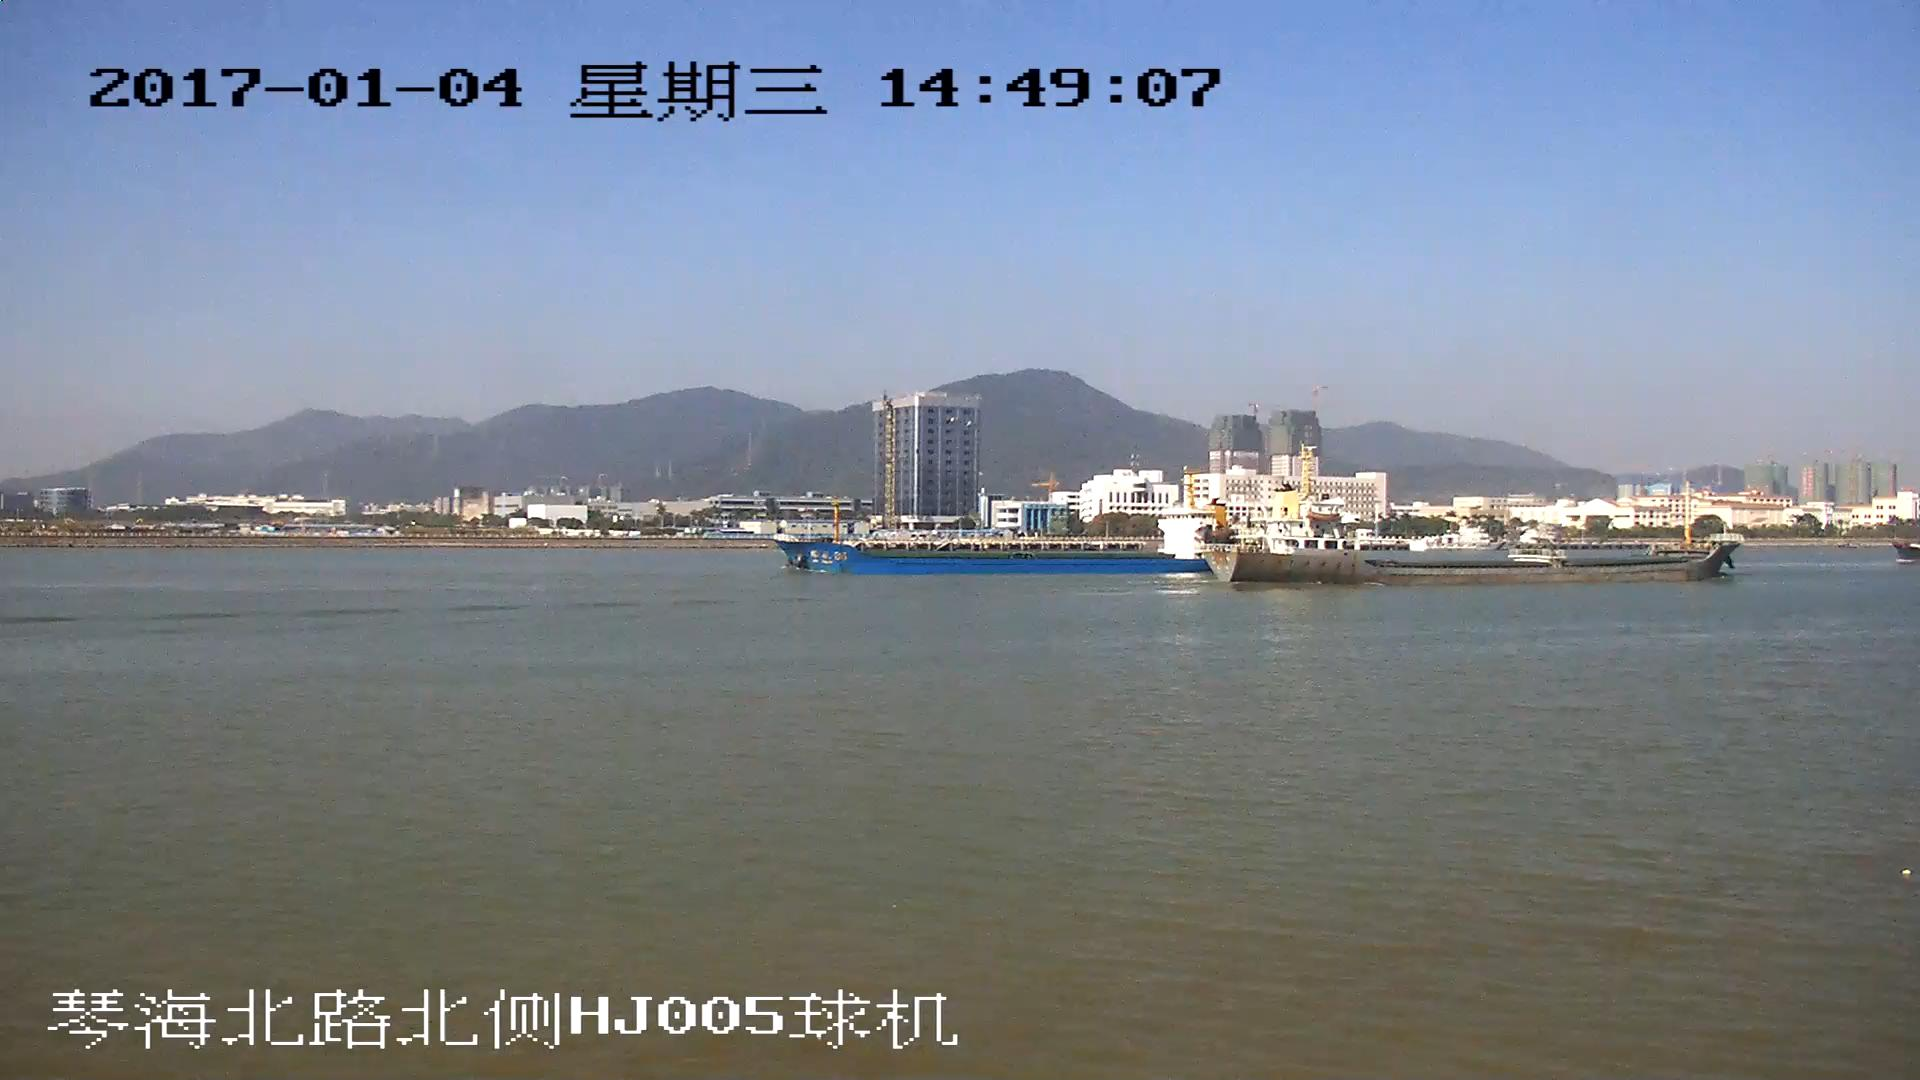general cargo ship: (1203, 463, 1733, 585), (776, 517, 1204, 576)
